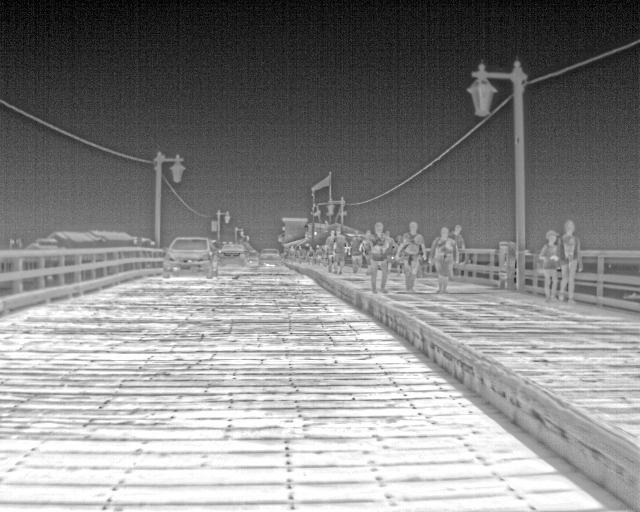bicycle: (162, 237, 217, 279), (213, 242, 243, 264), (254, 246, 278, 264)
empty: (557, 217, 584, 302), (364, 222, 394, 294), (397, 220, 427, 288), (428, 224, 455, 292), (537, 228, 561, 296), (332, 227, 348, 274), (348, 228, 364, 273), (448, 223, 466, 262), (323, 229, 337, 275), (303, 243, 317, 267), (314, 243, 326, 270)
